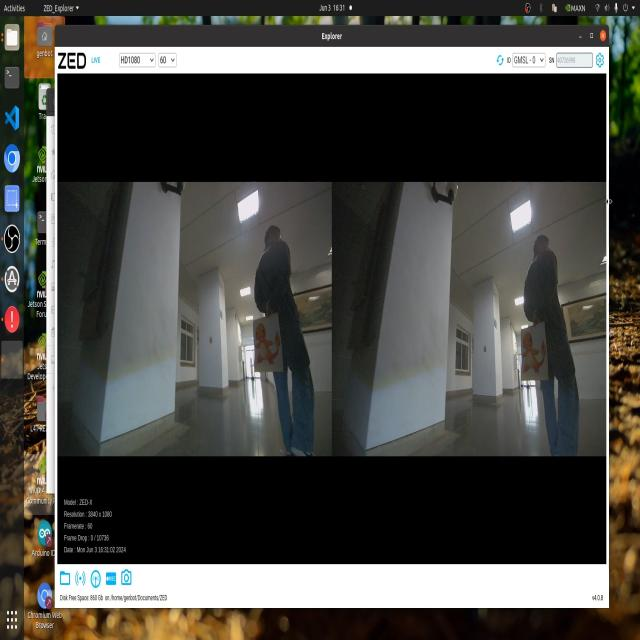red: (522, 325, 555, 390), (251, 316, 284, 376)
